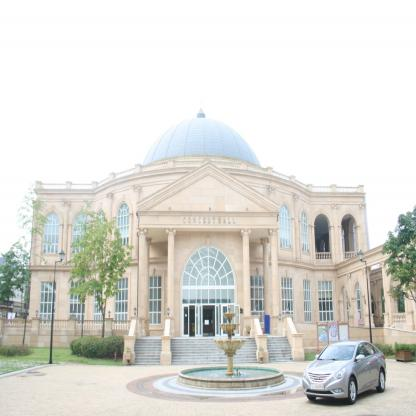Car: (301, 340, 387, 405)
